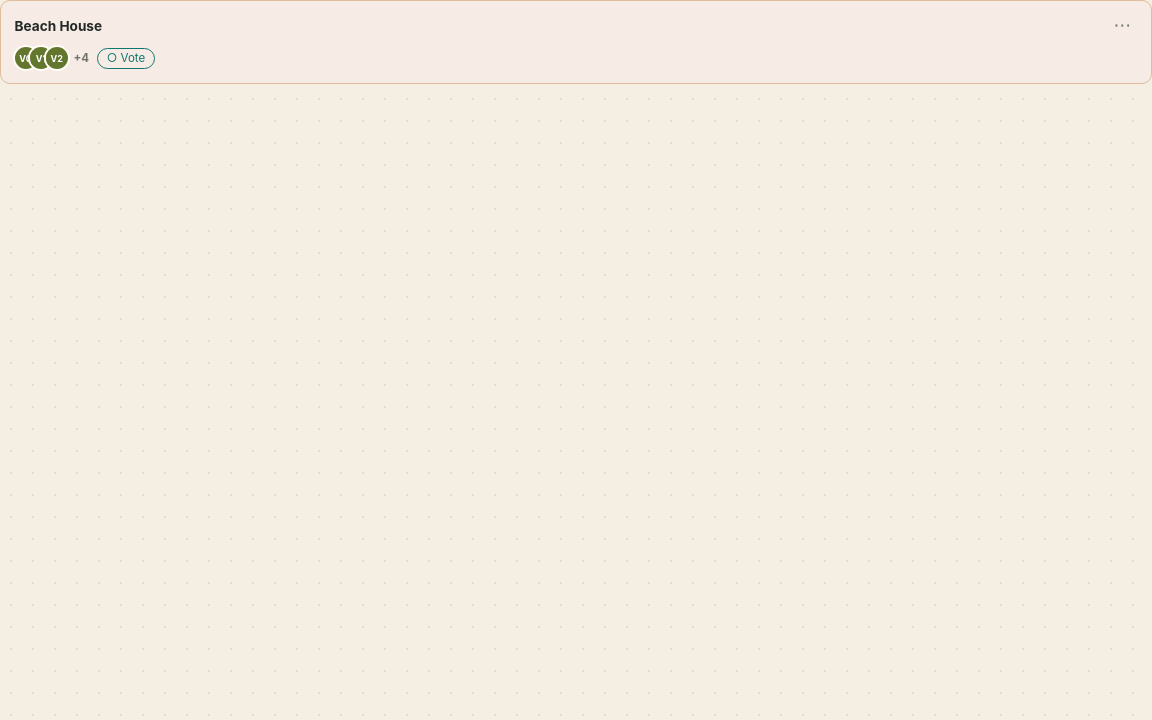
Test case: OptionCard › opens the full voter list from the tally
Click the button named "7 votes — see who" at [52, 58], box [15, 47, 89, 69]
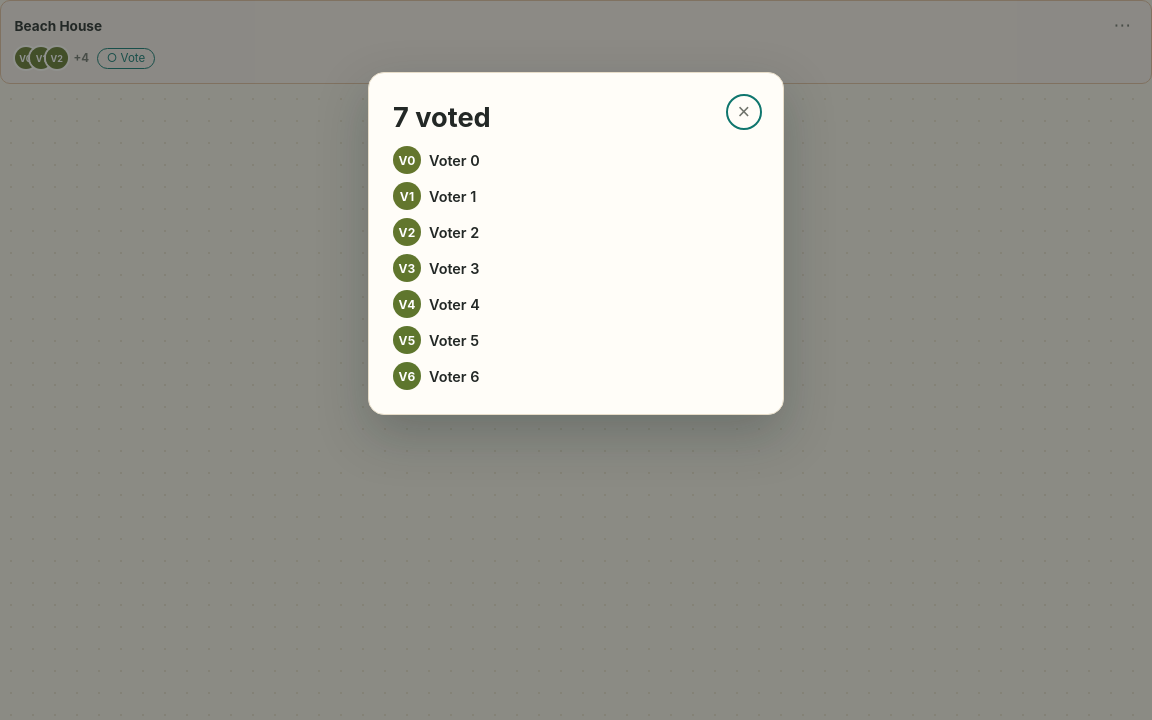
Result: the text "Voter 0" is shown at [429, 152, 480, 168]
Result: the text "Voter 6" is shown at [429, 368, 479, 384]
